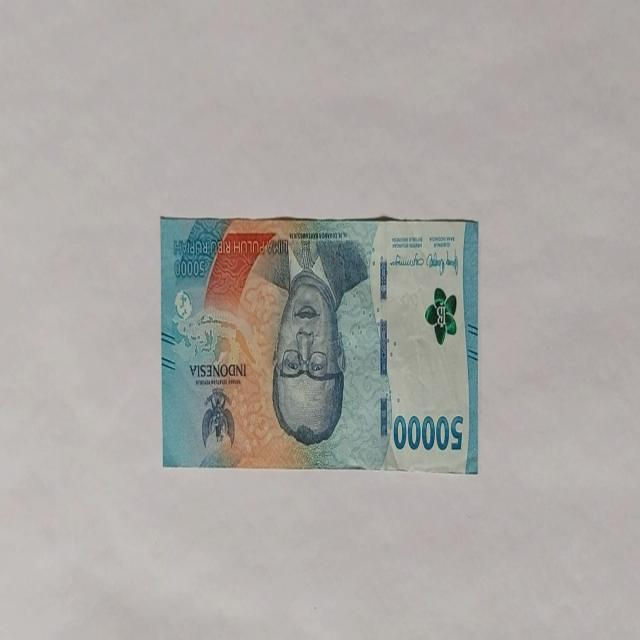lima puluh ribu rupiah: (160, 213, 478, 472)
